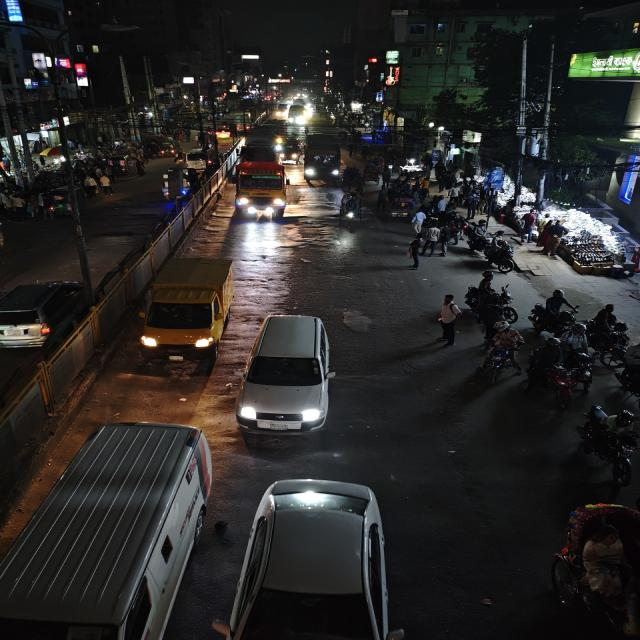bus: (9, 422, 218, 640), (302, 132, 342, 186)
car: (226, 474, 392, 640), (240, 310, 341, 440), (0, 274, 88, 350), (182, 149, 216, 168)
cng: (42, 186, 85, 216), (282, 139, 302, 165)
motorcycle: (574, 406, 640, 482), (529, 341, 584, 410), (480, 325, 526, 379), (576, 328, 626, 370), (482, 233, 520, 275)
pedestrian: (433, 292, 463, 346), (545, 288, 570, 320), (405, 237, 424, 270), (424, 224, 442, 256), (410, 209, 427, 237), (83, 174, 100, 196)
rickshaw: (545, 499, 640, 639)
truck: (141, 256, 240, 356), (234, 159, 288, 221)
